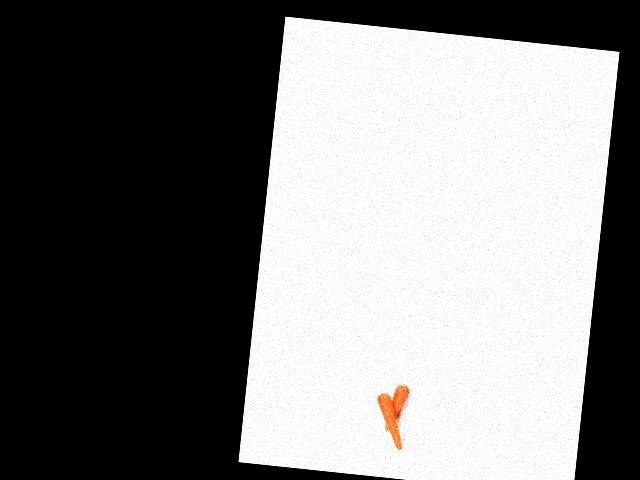carrot: (383, 378, 409, 437)
